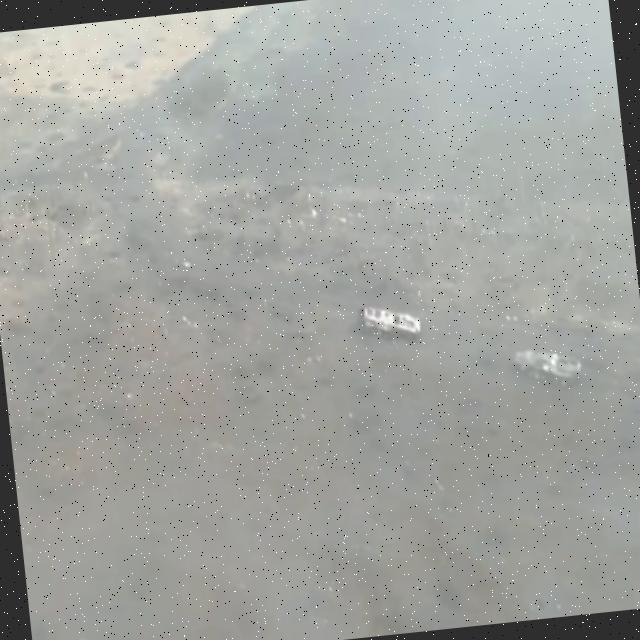AIFV: (511, 346, 585, 393), (358, 299, 426, 349)
